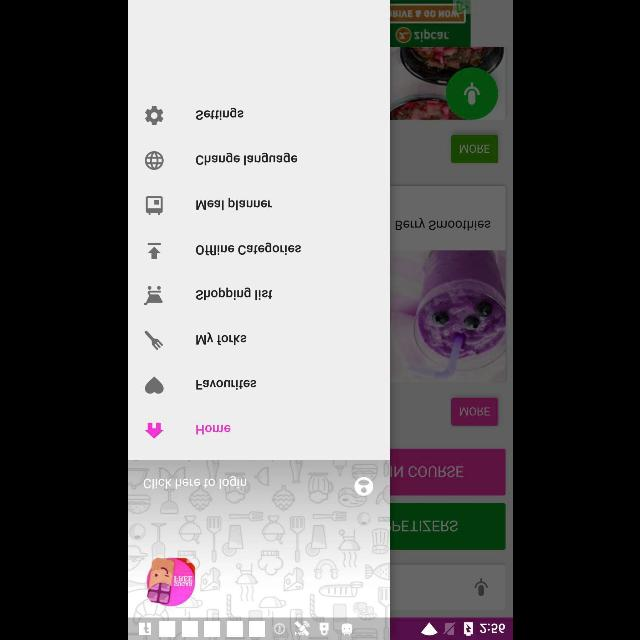button: (443, 68, 497, 120)
icon: (353, 476, 372, 496), (144, 106, 162, 126), (142, 286, 162, 304), (143, 376, 163, 394), (144, 196, 162, 214), (144, 422, 164, 438), (147, 242, 161, 260)
image: (128, 461, 388, 617), (146, 556, 194, 606), (144, 150, 164, 170), (144, 330, 162, 350)
panel: (128, 0, 388, 618)
text: (196, 242, 300, 256), (195, 152, 297, 166), (142, 476, 245, 488), (194, 287, 272, 301), (195, 198, 271, 210), (194, 332, 246, 346), (195, 378, 255, 389), (195, 108, 243, 120), (196, 424, 230, 434)
uppertaskbar: (128, 617, 512, 639)
